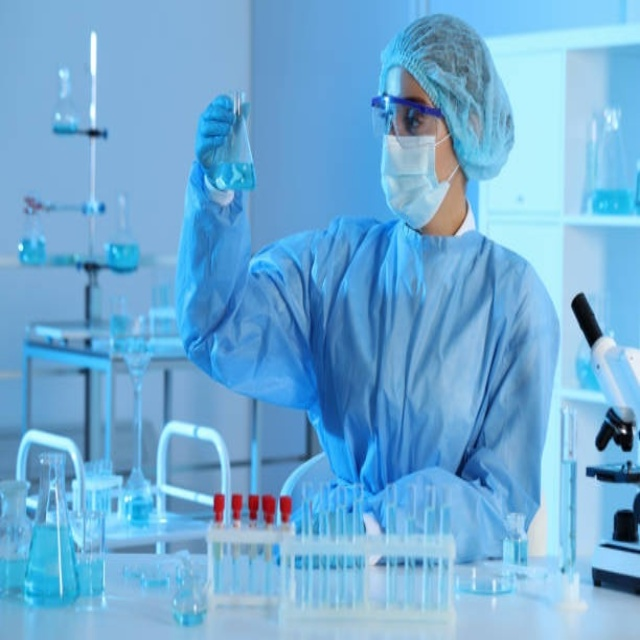Gafas: (371, 95, 448, 140)
Guantes: (193, 94, 241, 178)
Mascara: (381, 123, 460, 231)
